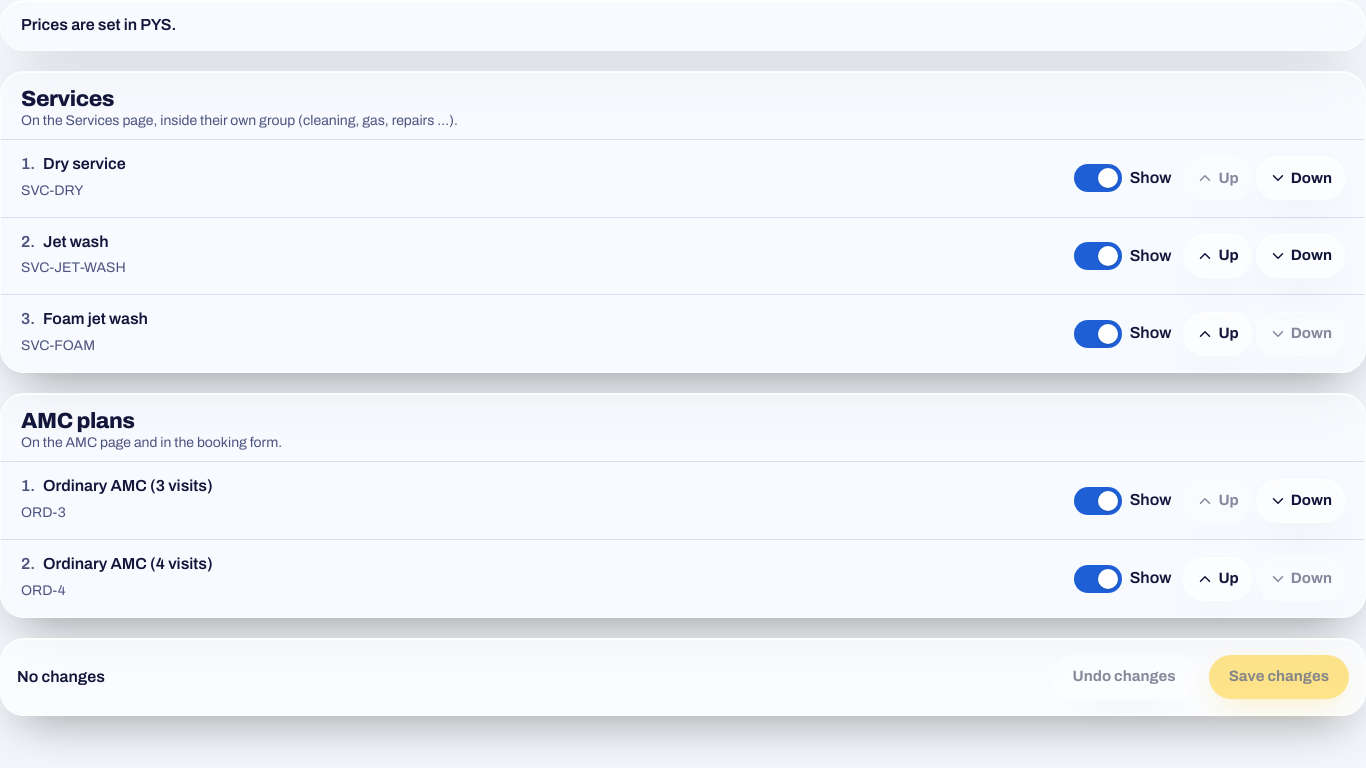
Scenario: DisplayEditor › sends only the changed rows, once, however many times Save is pressed
Click the switch named "Show Jet wash on the website".
click(1123, 256)  # box [1066,234,1179,278]
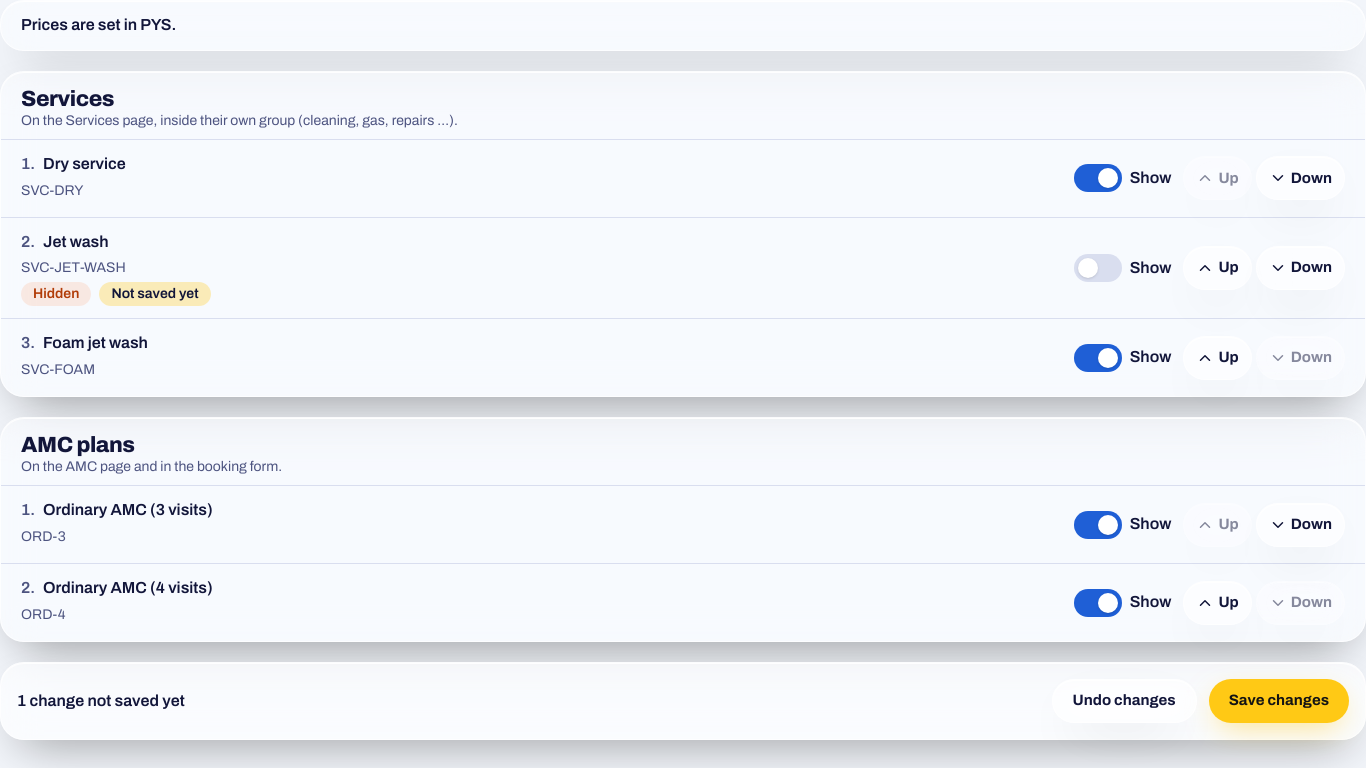
Click the button with aria-label "Move Ordinary AMC (4 visits) up".
click(1218, 603)  # box [1183,581,1252,625]
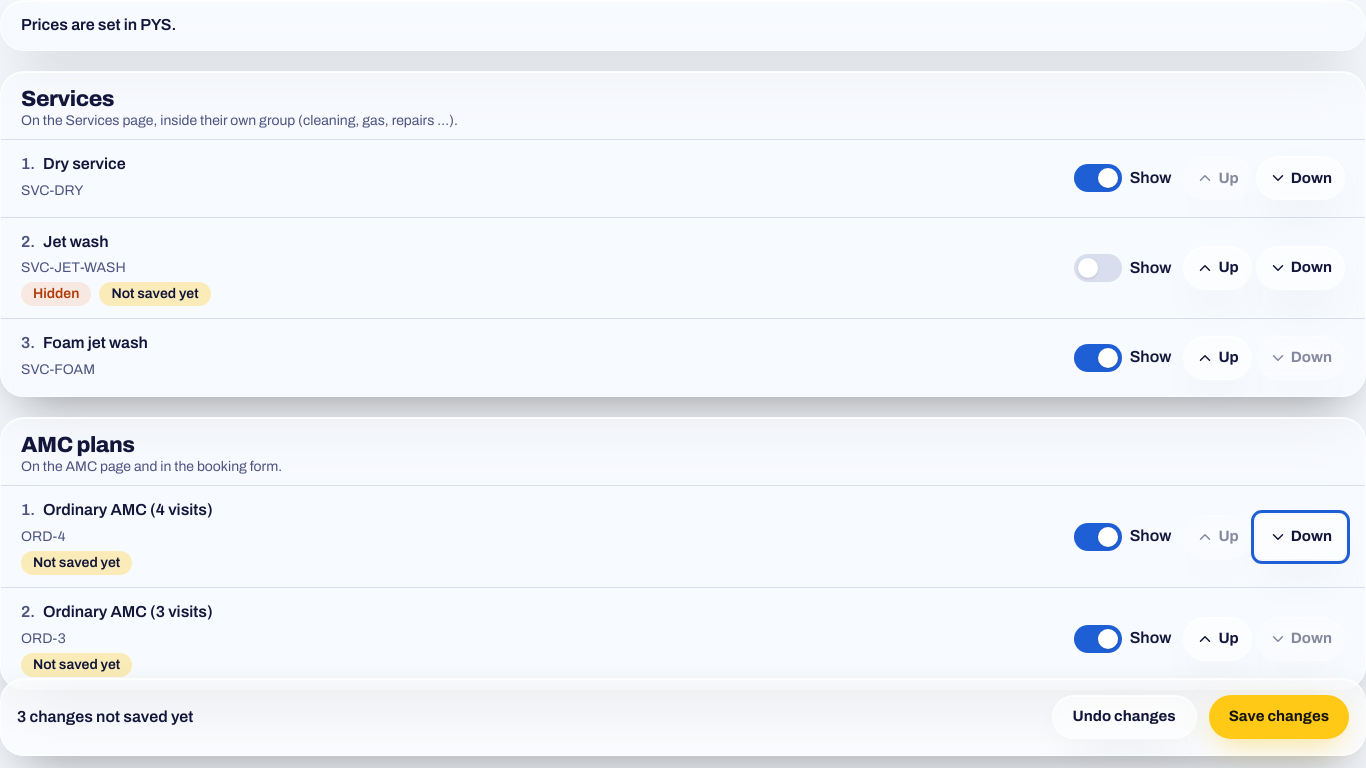
Click the button "Save changes".
click(1279, 717)  # box [1209,695,1349,739]
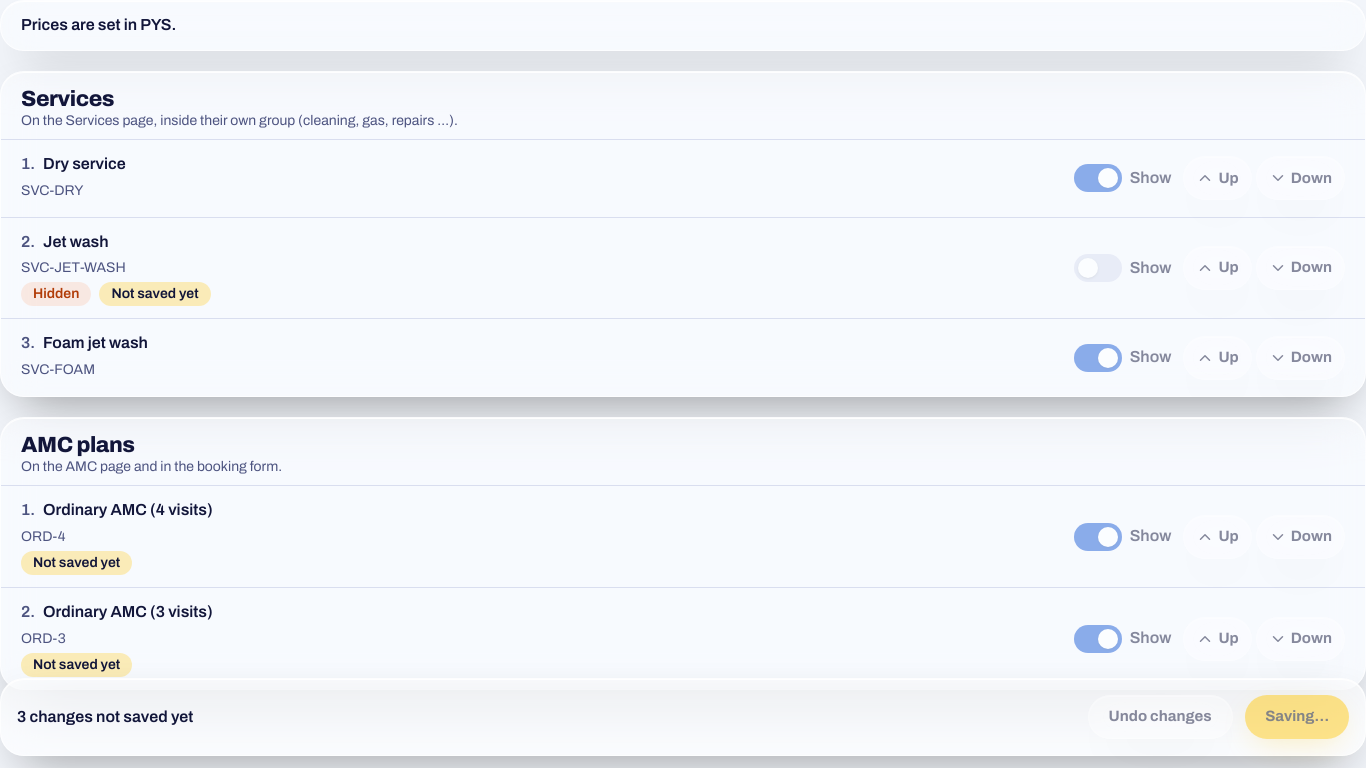
Click the button named "Save changes".
click(1297, 717)  # box [1245,695,1349,739]
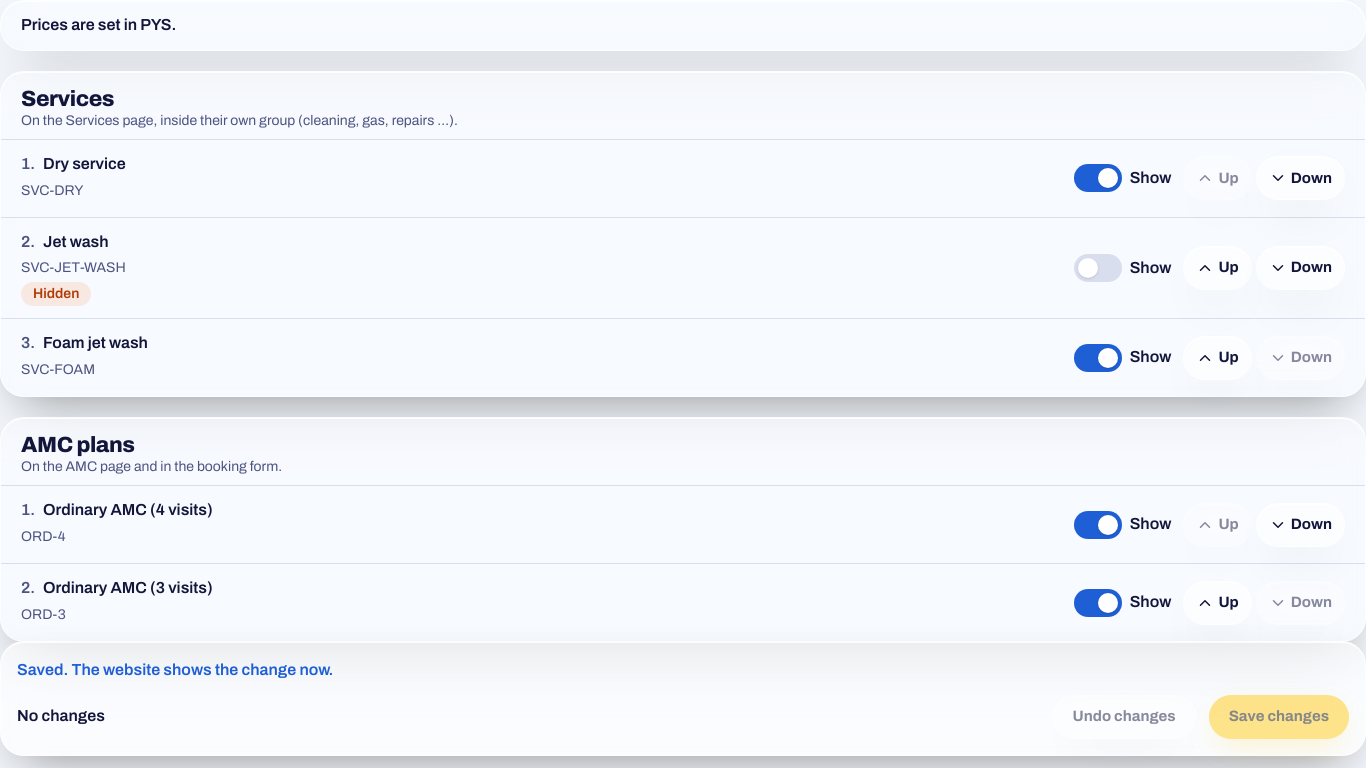
Result: the button "Save changes" is disabled at [1209,695,1349,739]
Result: the text "Saved. The website shows the change now." is shown at [17,661,333,678]
